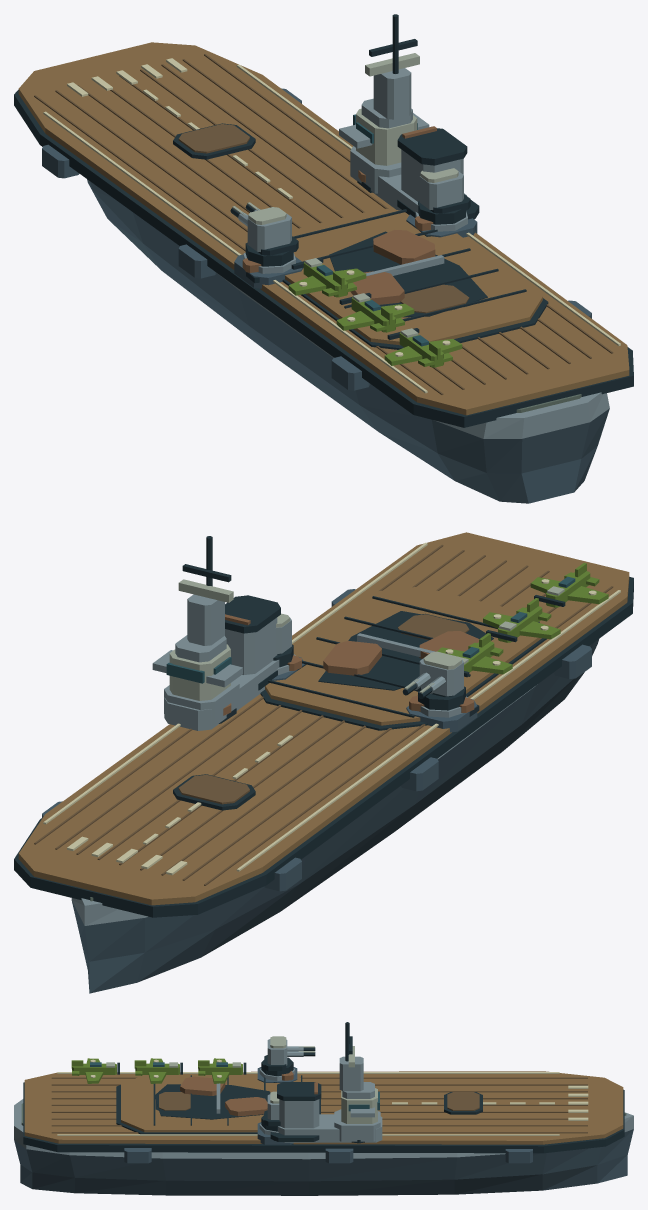
File: historic-sangamon.glb
3 views of the same model, one above another, from view 1: azimuth 30°, elevation 25°; view 2: azimuth 150°, elevation 25°; view 3: azimuth 270°, elevation 25° (orthographic). The views are drawn at different scales.
Parts seen in each view (by area): view 1: historic-sangamon-historic-sangamon-geometry, historic-sangamon-part_flight-deck.027-geometry, historic-sangamon-part_bridge.085-geometry, historic-sangamon-ruin_flight-deck.026-geometry, historic-sangamon-historic_funnel_0.083-geometry, historic-sangamon-turret_aa_aa-port.089-geometry, historic-sangamon-turret_aa_aa-starboard.085-geometry, historic-sangamon-aircraft_lift_0.027-geometry, historic-sangamon-parked_aircraft_0.027-geometry, historic-sangamon-parked_aircraft_1.027-geometry, historic-sangamon-parked_aircraft_2.027-geometry, historic-sangamon-aircraft_lift_1.026-geometry (+2 smaller); view 2: historic-sangamon-historic-sangamon-geometry, historic-sangamon-part_flight-deck.027-geometry, historic-sangamon-part_bridge.085-geometry, historic-sangamon-ruin_flight-deck.026-geometry, historic-sangamon-historic_funnel_0.083-geometry, historic-sangamon-turret_aa_aa-port.089-geometry, historic-sangamon-aircraft_lift_0.027-geometry, historic-sangamon-parked_aircraft_0.027-geometry, historic-sangamon-parked_aircraft_1.027-geometry, historic-sangamon-parked_aircraft_2.027-geometry, historic-sangamon-aircraft_lift_1.026-geometry, historic-sangamon-part_aa-port.089-geometry (+1 smaller); view 3: historic-sangamon-historic-sangamon-geometry, historic-sangamon-part_flight-deck.027-geometry, historic-sangamon-historic_funnel_0.083-geometry, historic-sangamon-part_bridge.085-geometry, historic-sangamon-ruin_flight-deck.026-geometry, historic-sangamon-turret_aa_aa-port.089-geometry, historic-sangamon-aircraft_lift_0.027-geometry, historic-sangamon-parked_aircraft_0.027-geometry, historic-sangamon-parked_aircraft_2.027-geometry, historic-sangamon-parked_aircraft_1.027-geometry, historic-sangamon-aircraft_lift_1.026-geometry, historic-sangamon-turret_aa_aa-starboard.085-geometry (+2 smaller).
Part boxes in pixels (box(x1,y1,x2,y2)): historic-sangamon-historic-sangamon-geometry: box(14, 42, 633, 503); historic-sangamon-part_flight-deck.027-geometry: box(282, 208, 548, 349); historic-sangamon-part_bridge.085-geometry: box(339, 14, 429, 193); historic-sangamon-ruin_flight-deck.026-geometry: box(329, 230, 487, 317); historic-sangamon-historic_funnel_0.083-geometry: box(350, 126, 479, 219); historic-sangamon-turret_aa_aa-port.089-geometry: box(230, 202, 298, 266); historic-sangamon-turret_aa_aa-starboard.085-geometry: box(418, 168, 470, 224); historic-sangamon-aircraft_lift_0.027-geometry: box(173, 123, 255, 159); historic-sangamon-parked_aircraft_0.027-geometry: box(384, 328, 462, 367); historic-sangamon-parked_aircraft_1.027-geometry: box(336, 293, 414, 332); historic-sangamon-parked_aircraft_2.027-geometry: box(288, 257, 366, 297); historic-sangamon-aircraft_lift_1.026-geometry: box(400, 284, 469, 313); historic-sangamon-historic-sangamon-geometry: box(14, 532, 633, 993); historic-sangamon-part_flight-deck.027-geometry: box(260, 586, 546, 730); historic-sangamon-part_bridge.085-geometry: box(152, 536, 242, 726); historic-sangamon-ruin_flight-deck.026-geometry: box(318, 611, 493, 690); historic-sangamon-historic_funnel_0.083-geometry: box(164, 595, 280, 730); historic-sangamon-turret_aa_aa-port.089-geometry: box(402, 651, 465, 710); historic-sangamon-aircraft_lift_0.027-geometry: box(173, 774, 255, 810); historic-sangamon-parked_aircraft_0.027-geometry: box(530, 563, 608, 607); historic-sangamon-parked_aircraft_1.027-geometry: box(483, 598, 560, 642); historic-sangamon-parked_aircraft_2.027-geometry: box(437, 633, 512, 677); historic-sangamon-aircraft_lift_1.026-geometry: box(398, 613, 469, 640); historic-sangamon-part_aa-port.089-geometry: box(406, 696, 477, 732); historic-sangamon-historic-sangamon-geometry: box(14, 1071, 633, 1195); historic-sangamon-part_flight-deck.027-geometry: box(116, 1074, 320, 1134); historic-sangamon-historic_funnel_0.083-geometry: box(270, 1082, 382, 1142); historic-sangamon-part_bridge.085-geometry: box(334, 1022, 380, 1141); historic-sangamon-ruin_flight-deck.026-geometry: box(155, 1076, 270, 1119); historic-sangamon-turret_aa_aa-port.089-geometry: box(261, 1036, 315, 1076); historic-sangamon-aircraft_lift_0.027-geometry: box(444, 1092, 482, 1114); historic-sangamon-parked_aircraft_0.027-geometry: box(71, 1058, 119, 1083); historic-sangamon-parked_aircraft_2.027-geometry: box(198, 1058, 246, 1083); historic-sangamon-parked_aircraft_1.027-geometry: box(134, 1058, 182, 1083); historic-sangamon-aircraft_lift_1.026-geometry: box(155, 1092, 190, 1110); historic-sangamon-turret_aa_aa-starboard.085-geometry: box(261, 1091, 280, 1131).
Bounding box in the file's own units: 1.81 × 1.92 × 5.89.
